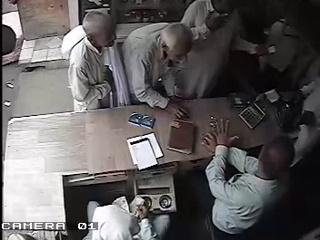Normal: (201, 122, 295, 238), (176, 0, 272, 100), (121, 22, 194, 117), (61, 8, 123, 112), (88, 194, 160, 240)
